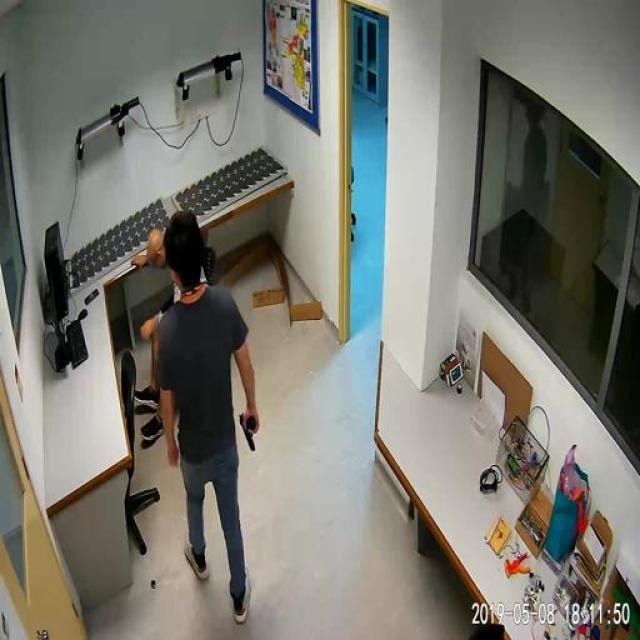Gun: (238, 402, 264, 453)
